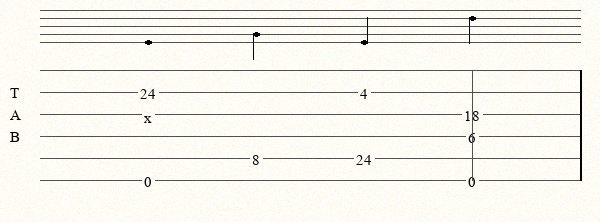0: (144, 173, 156, 187), (468, 173, 480, 187)
18: (464, 107, 484, 121)
24: (140, 85, 160, 99), (356, 151, 376, 165)
4: (360, 85, 372, 99)
6: (468, 129, 480, 143)
8: (252, 151, 264, 165)
x: (144, 109, 156, 120)
